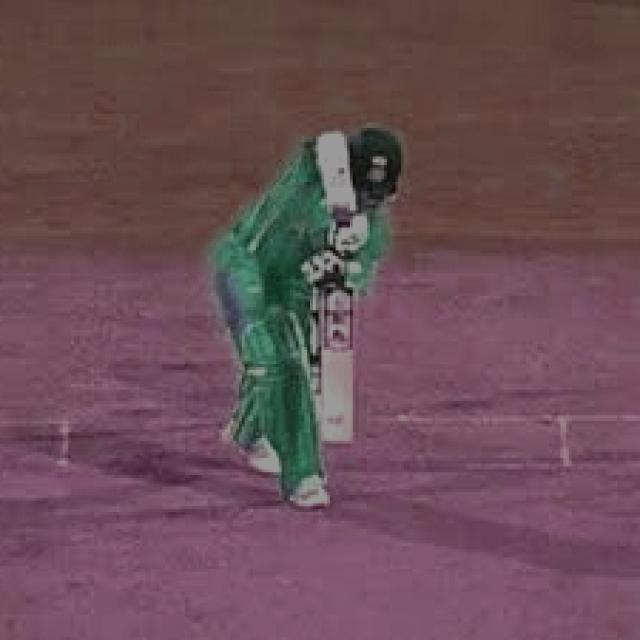bat: (310, 278, 368, 452)
toe: (320, 436, 353, 453)
